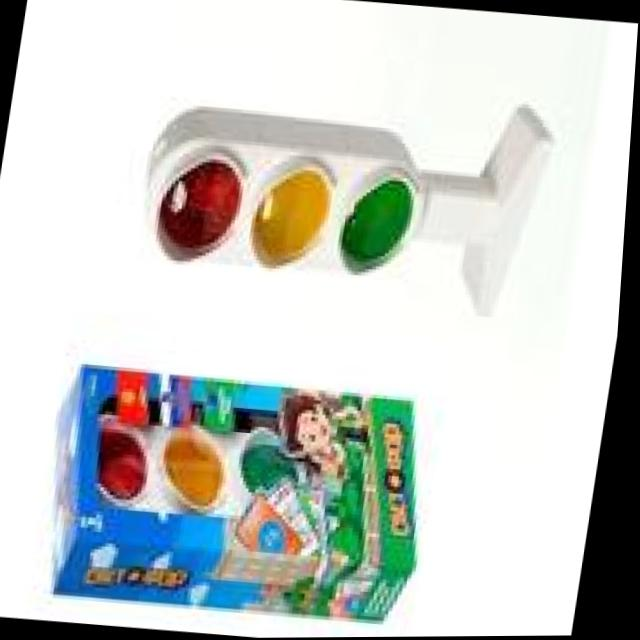green_light: (329, 156, 434, 271)
red_light: (147, 138, 270, 258)
yellow_light: (244, 152, 352, 273)
